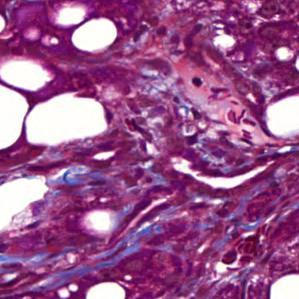steatosis: (22, 94, 107, 146), (70, 14, 120, 54)
